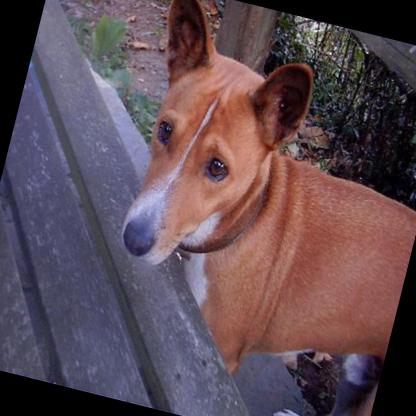basenji: (71, 0, 416, 416)
